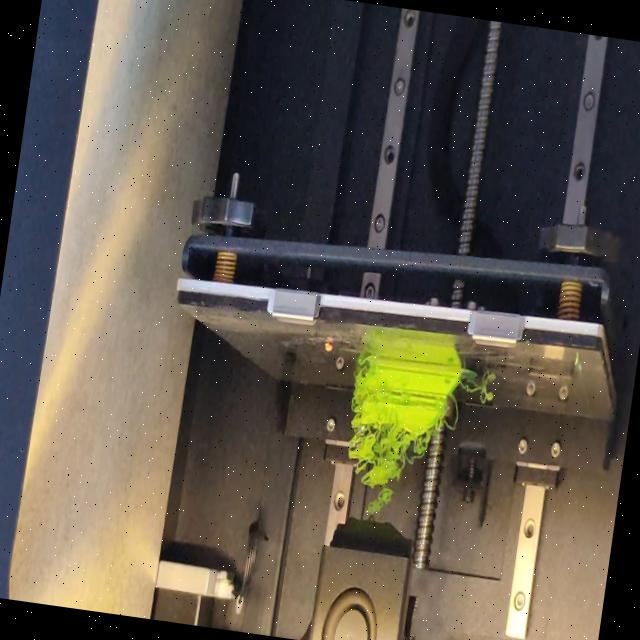spaghetti: (340, 414, 432, 521), (454, 374, 494, 403), (443, 396, 460, 435), (356, 352, 369, 369)
